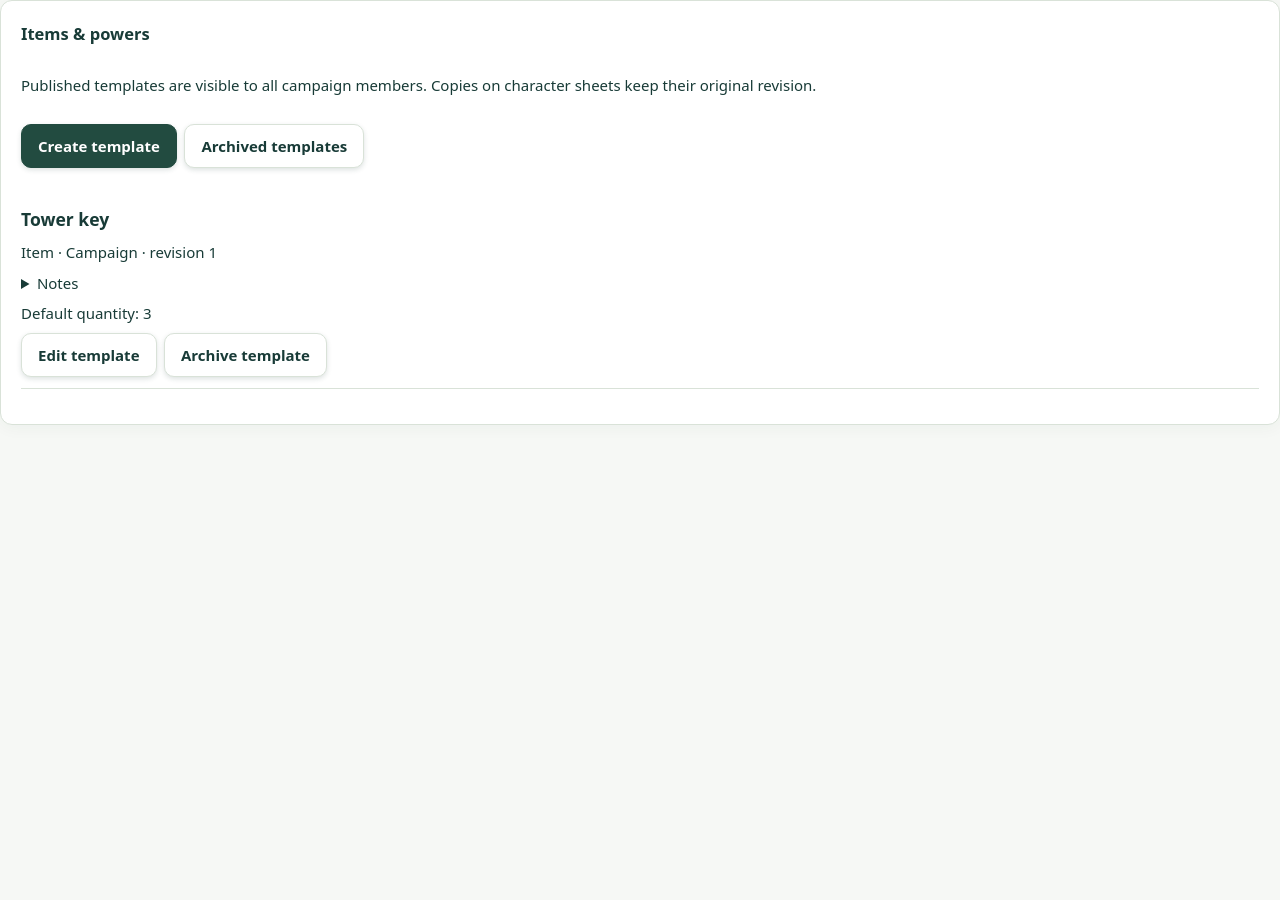
Test: keeps input on a stale revision and requires refresh before editing again
expect the heading "Tower key" is shown: met, box [21, 207, 109, 231]
Click the button "Edit template".
click(89, 355)  # box [21, 333, 156, 377]
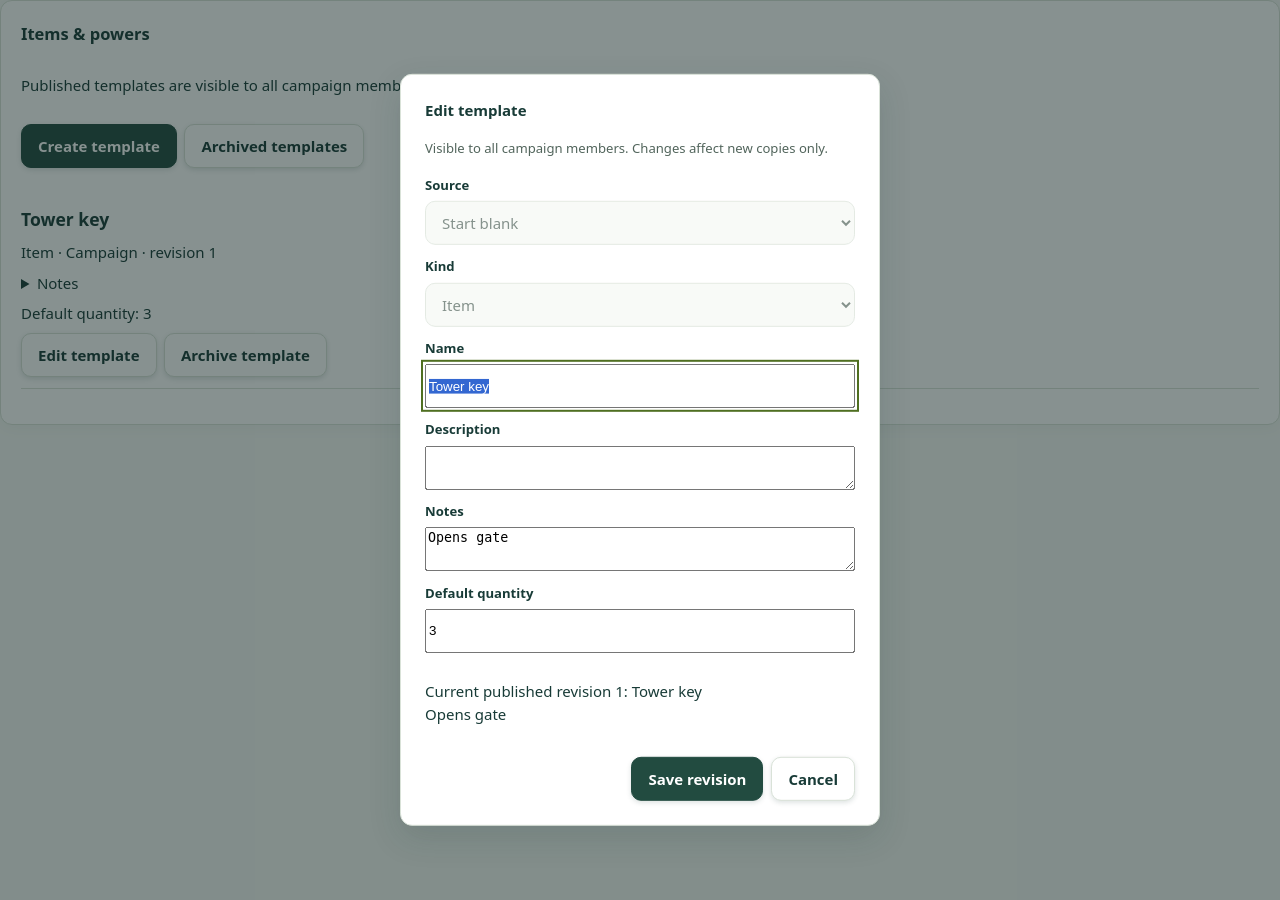
Type " changed" into the text box labelled "Notes".
click(640, 549); type(" changed")  # box [425, 527, 855, 571]
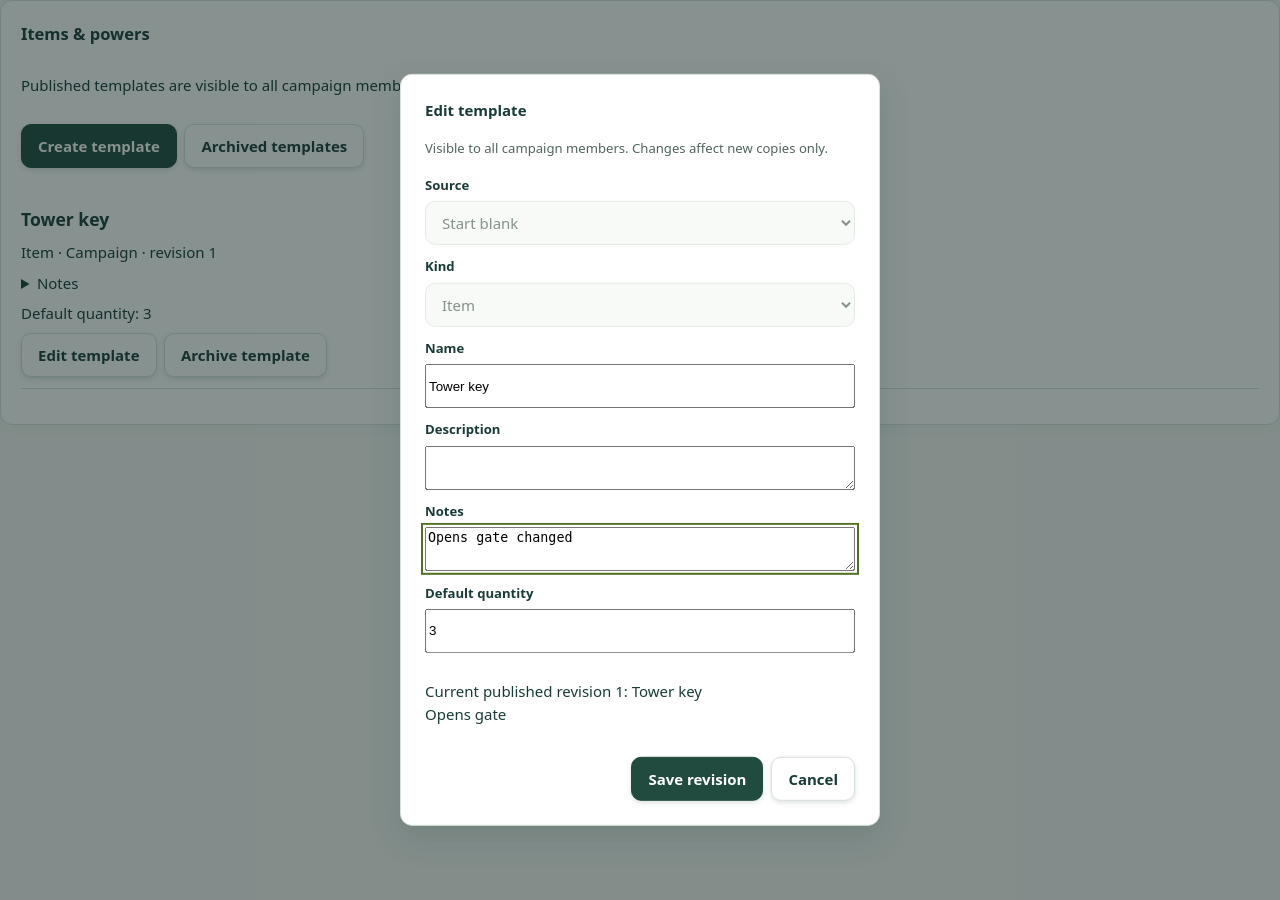
Click the button "Save revision".
click(697, 779)  # box [631, 757, 763, 801]
(page scrolled)
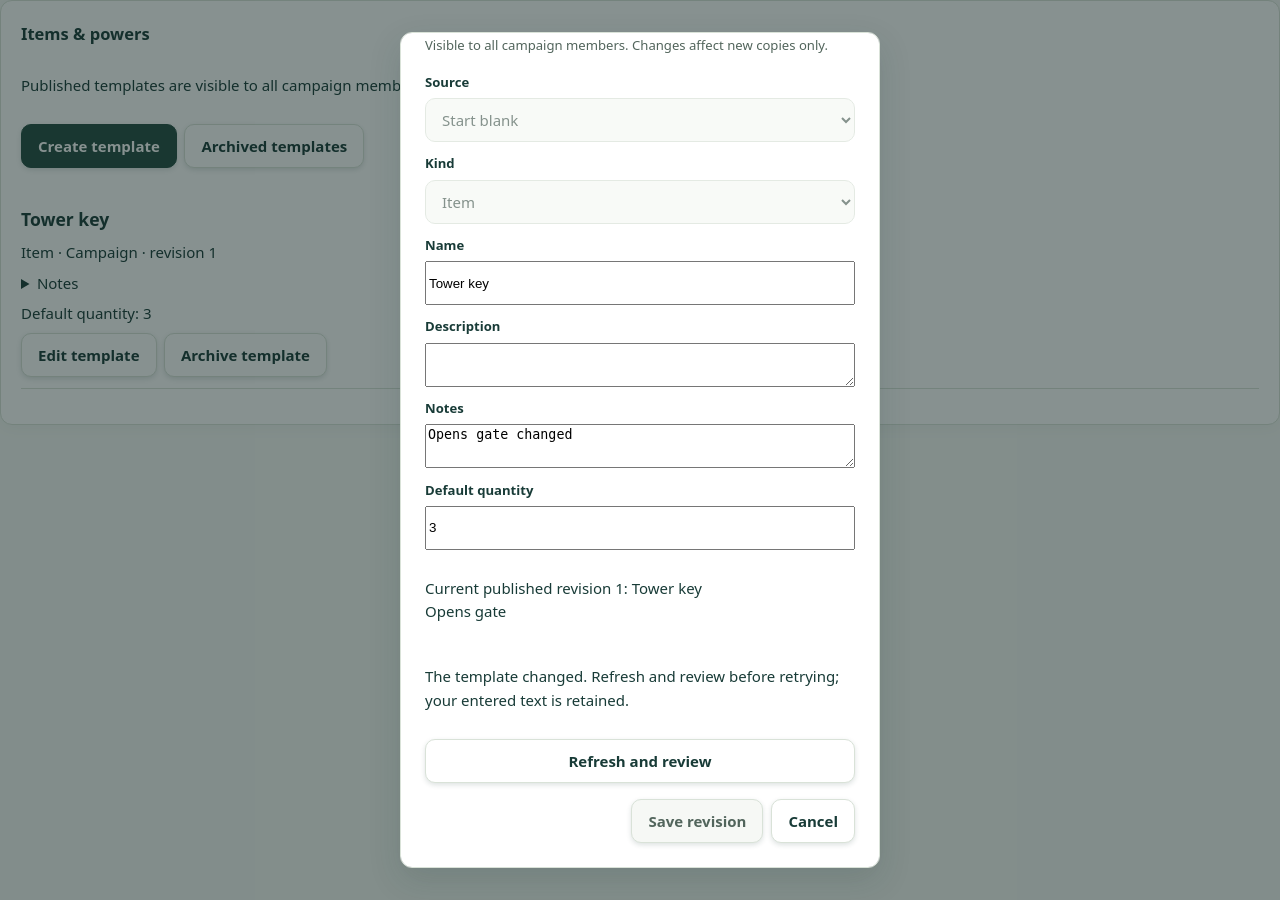
expect the text box labelled "Notes" holds "Opens gate changed": met, box [425, 424, 855, 468]
expect the button "Save revision" is disabled: met, box [631, 799, 763, 843]
